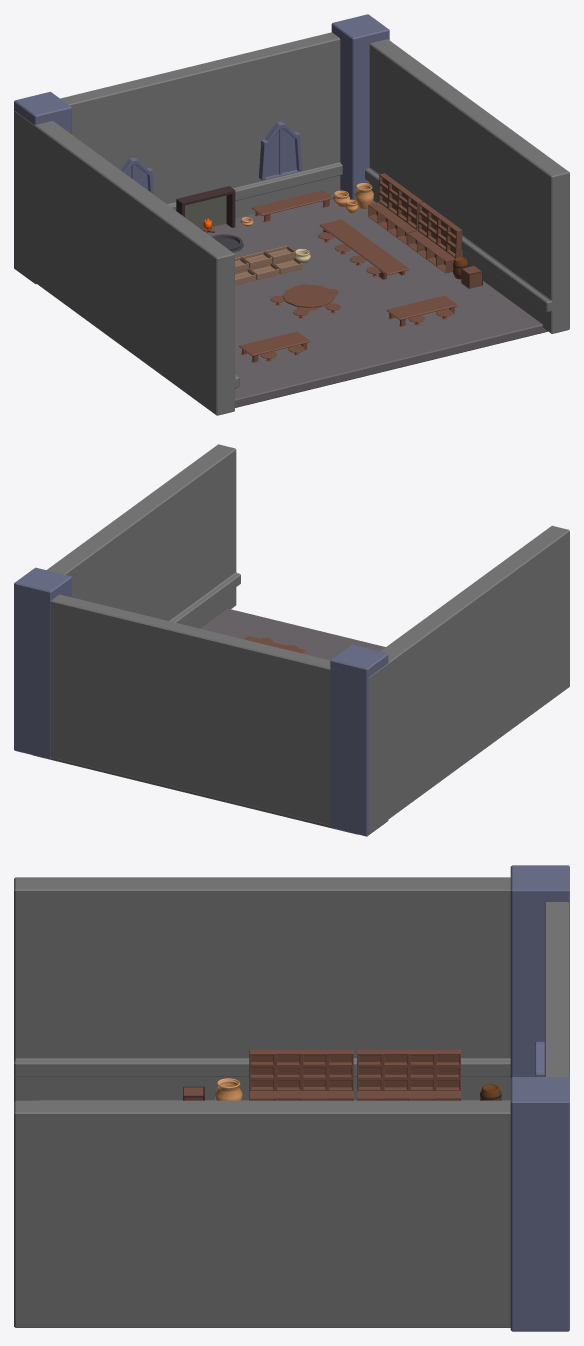
File: SalaDeIngredientes_Blocagem.fbx
3 views of the same model, one above another, from view 1: azimuth 30°, elevation 25°; view 2: azimuth 150°, elevation 25°; view 3: azimuth 270°, elevation 25° (orthographic). The views are drawn at different scales.
Visible parts, largest first — view 1: Cube.046, Plane.002, Cube.049, Cube.047, Cube.052, Cube.053, Cube.008, Cube.050, Mesa.007, Cube.048, Mesa redonda.010, Mesa.008 (+3 smaller); view 2: Cube.046, Cube.049, Cube.048, Cube.047, Plane.002; view 3: Cube.046, Cube.047, Cube.048, Cube.051, Cube.007, Cube.049.
Boxes of the visible parts, x1=… form: Cube.046: x1=14, y1=39, x2=569, y2=415; Plane.002: x1=207, y1=194, x2=547, y2=407; Cube.049: x1=60, y1=32, x2=342, y2=218; Cube.047: x1=331, y1=14, x2=389, y2=200; Cube.052: x1=407, y1=202, x2=462, y2=273; Cube.053: x1=368, y1=173, x2=422, y2=244; Cube.008: x1=259, y1=121, x2=302, y2=180; Cube.050: x1=176, y1=186, x2=235, y2=228; Mesa.007: x1=319, y1=219, x2=409, y2=280; Cube.048: x1=14, y1=91, x2=71, y2=284; Mesa redonda.010: x1=270, y1=284, x2=340, y2=318; Mesa.008: x1=239, y1=331, x2=310, y2=363; Cube.046: x1=46, y1=444, x2=569, y2=833; Cube.049: x1=50, y1=594, x2=330, y2=825; Cube.048: x1=330, y1=645, x2=388, y2=836; Cube.047: x1=14, y1=567, x2=71, y2=759; Plane.002: x1=33, y1=608, x2=385, y2=834; Cube.046: x1=14, y1=877, x2=510, y2=1327; Cube.047: x1=510, y1=1077, x2=569, y2=1331; Cube.048: x1=510, y1=865, x2=569, y2=1077; Cube.051: x1=249, y1=1050, x2=353, y2=1100; Cube.007: x1=357, y1=1050, x2=460, y2=1100; Cube.049: x1=544, y1=902, x2=569, y2=1077.
Bounding box in the file's own units: 3666 × 1696 × 3635.
